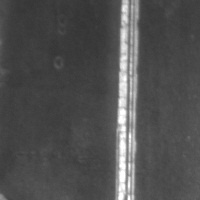scratches: (113, 0, 146, 199)
